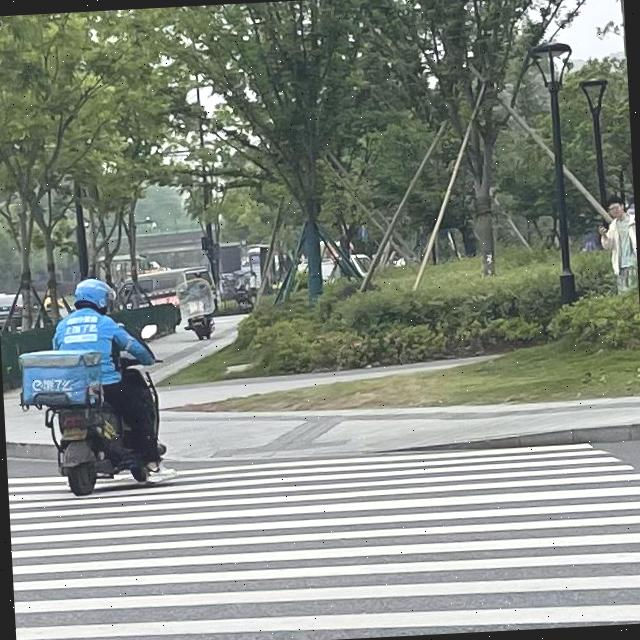curb: (377, 424, 640, 453), (6, 442, 55, 459)
